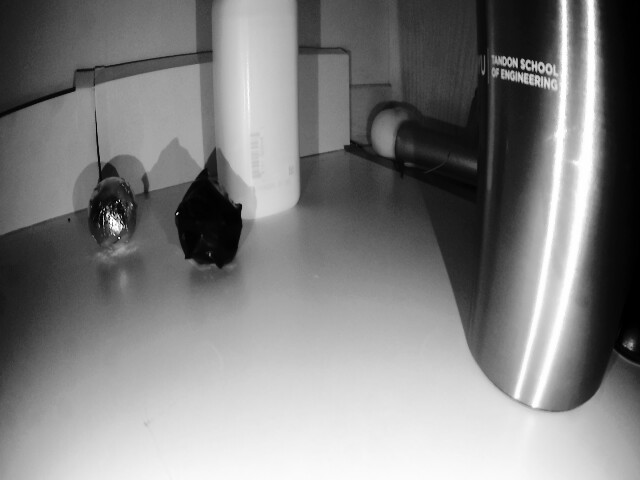black: (84, 173, 150, 252)
silver: (172, 178, 248, 281)
